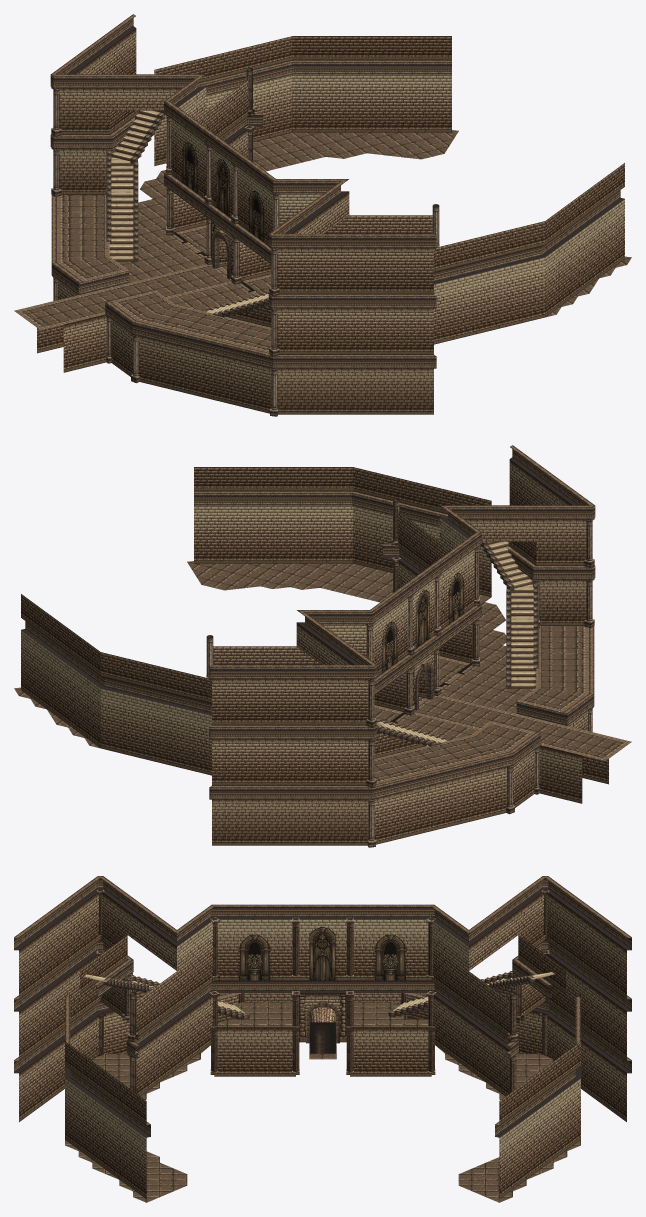
The model's file is ObjMD_Coliseum_Entrance.FBX.
The picture shows the model from 3 angles, top to bottom: view 1: azimuth 30°, elevation 25°; view 2: azimuth 150°, elevation 25°; view 3: azimuth 270°, elevation 25°; orthographic projection. The views are drawn at different scales.
Parts seen in each view (by area): view 1: ObjMD_Coliseum_Entrance; view 2: ObjMD_Coliseum_Entrance; view 3: ObjMD_Coliseum_Entrance.
Part boxes in pixels (x1,y1,x2,y2): ObjMD_Coliseum_Entrance: (14, 14, 631, 416); ObjMD_Coliseum_Entrance: (14, 445, 631, 847); ObjMD_Coliseum_Entrance: (14, 876, 631, 1202).
Bounding box in the file's own units: 4500 × 1500 × 4553.
